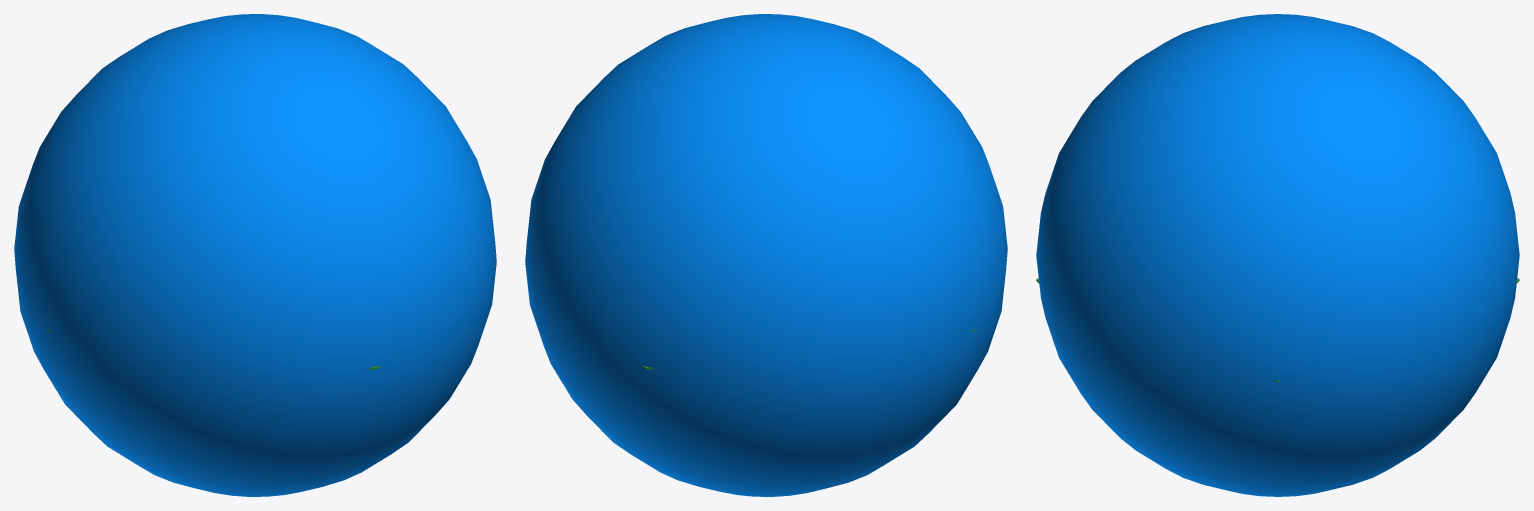
The model's file is Medieval.fbx_World.fbx.
The picture shows the model from 3 angles, left to right: view 1: azimuth 30°, elevation 25°; view 2: azimuth 150°, elevation 25°; view 3: azimuth 270°, elevation 25°; orthographic projection.
Parts seen in each view (by area): view 1: Sky; view 2: Sky; view 3: Sky.
Boxes of the visible parts, x1,y1,x2,y2 form: Sky: (14,14,496,496); Sky: (525,14,1007,496); Sky: (1036,14,1519,496).
Size of the model in its own units: 51545 by 51545 by 51545.
